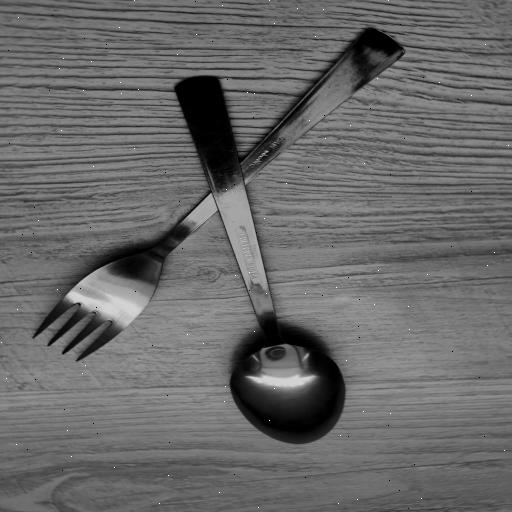fork: (31, 27, 400, 366)
spoon: (169, 72, 351, 449)
